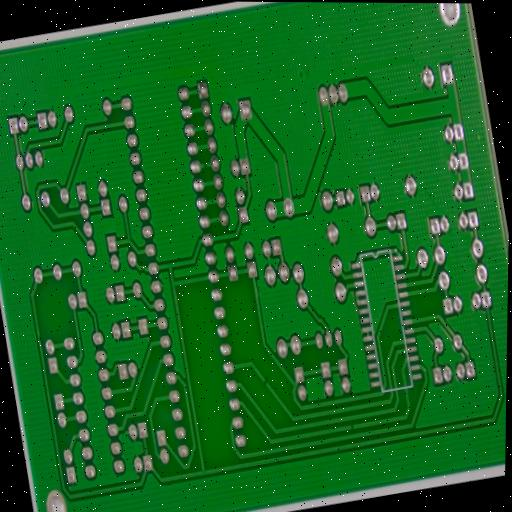open_circuit: (259, 371, 270, 391), (200, 158, 210, 171), (348, 419, 357, 433)
